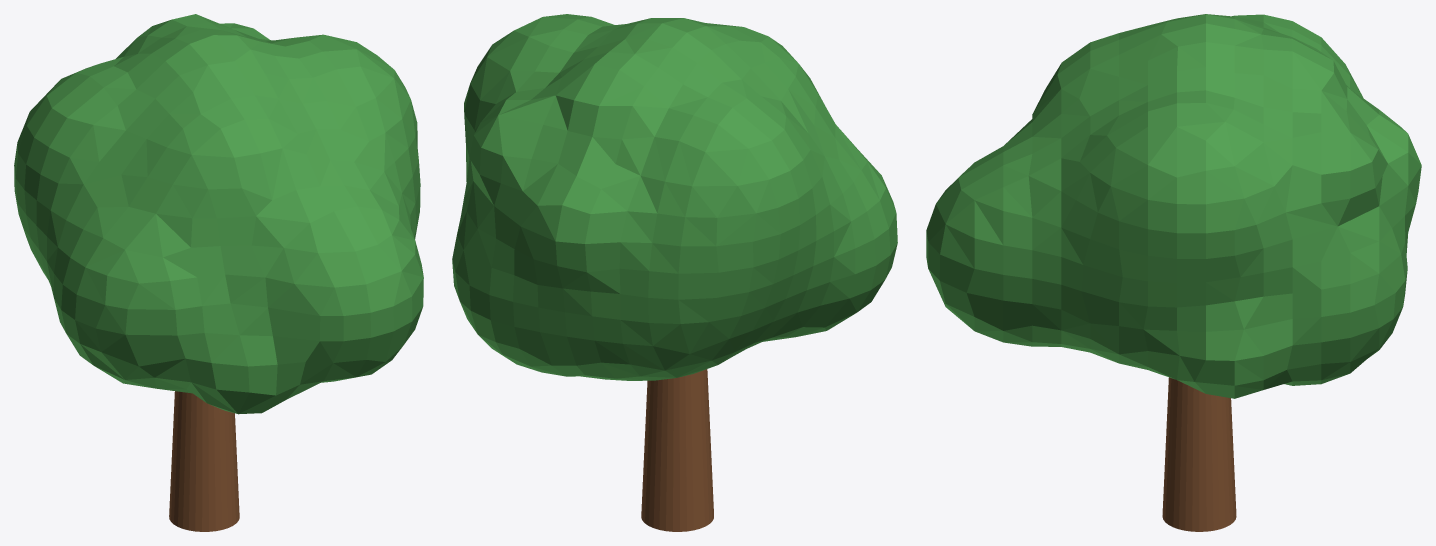
The model's file is ufo_tree4.fbx.
3 renders of one model, left to right at view 1: azimuth 30°, elevation 25°; view 2: azimuth 150°, elevation 25°; view 3: azimuth 270°, elevation 25°, orthographic. The views are drawn at different scales.
Parts seen in each view (by area): view 1: Mball.020, Cylinder.003; view 2: Mball.020, Cylinder.003; view 3: Mball.020, Cylinder.003.
Boxes of the visible parts, x1,y1,x2,y2 form: Mball.020: (14,14,423,414); Cylinder.003: (169,391,239,531); Mball.020: (452,14,897,380); Cylinder.003: (641,369,713,531); Mball.020: (926,14,1421,398); Cylinder.003: (1162,377,1236,531).
Bounding box in the file's own units: 305 × 381 × 343.
